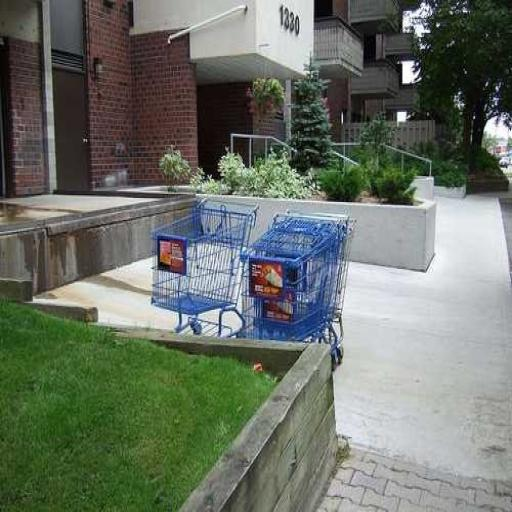shopping_cart: (240, 206, 358, 371), (148, 197, 259, 334)
